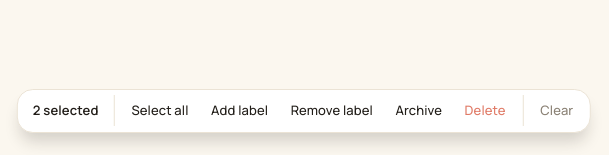
Test: SelectionActionBar › Add label opens the bulk label picker
Click the button "Add label": (240, 110) [202,95,278,126]
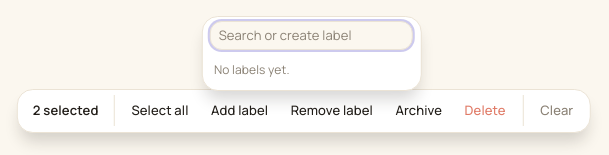
Expected: the field with placeholder "Search or create label" is shown, [210,21,413,50]
